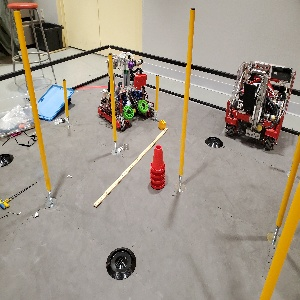Red_4: (149, 142, 166, 191)
